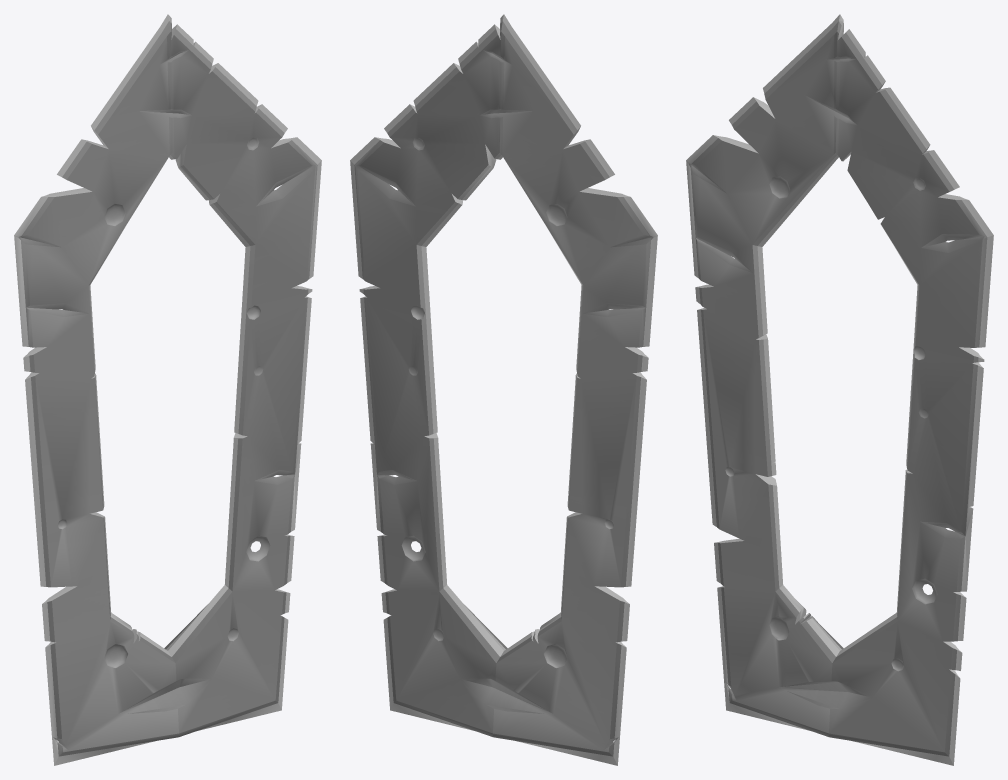
The model's file is stone_blade_bubbles_046.glb.
3 renders of one model, left to right at view 1: azimuth 30°, elevation 25°; view 2: azimuth 150°, elevation 25°; view 3: azimuth 330°, elevation 25°, orthographic.
Visible parts, largest first — view 1: stone_blade_bubbles.046; view 2: stone_blade_bubbles.046; view 3: stone_blade_bubbles.046.
Boxes of the visible parts, bbox=[...] form: stone_blade_bubbles.046: bbox=[14, 14, 321, 765]; stone_blade_bubbles.046: bbox=[350, 14, 657, 765]; stone_blade_bubbles.046: bbox=[686, 14, 993, 765].
Bounding box in the file's own units: 5.08 × 11.42 × 0.6326.
Materials: 1 (1 with a texture image).
